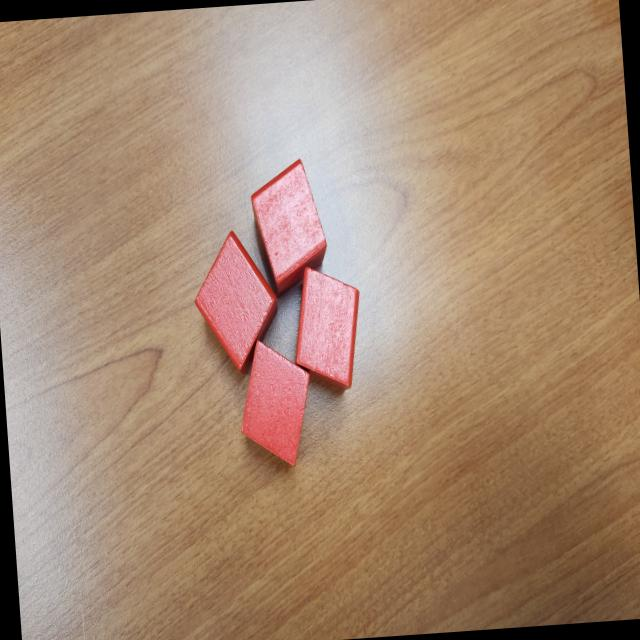red: (185, 227, 283, 381), (232, 334, 316, 473), (248, 154, 330, 296), (287, 261, 366, 395)
